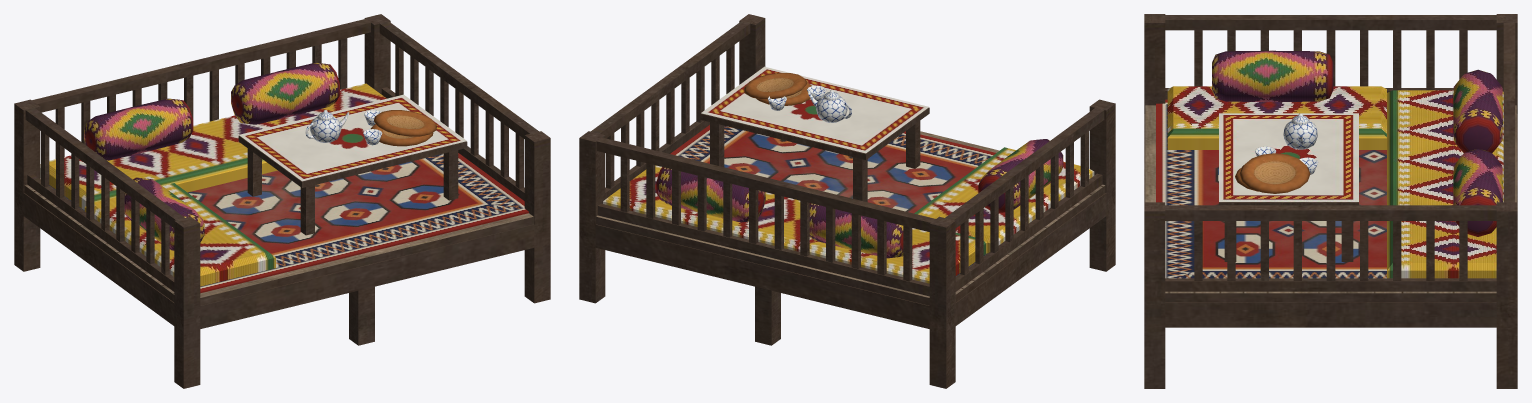
File: tapchan.glb
3 views of the same model, side by side, from view 1: azimuth 30°, elevation 25°; view 2: azimuth 150°, elevation 25°; view 3: azimuth 270°, elevation 25° (orthographic). The views are drawn at different scales.
Parts seen in each view (by area): view 1: tapchan; view 2: tapchan; view 3: tapchan.
Part boxes in pixels (left/top/right/bottom): tapchan: left=14, top=14, right=550, bottom=388; tapchan: left=579, top=14, right=1115, bottom=388; tapchan: left=1144, top=14, right=1517, bottom=388.
Size of the model in its own units: 2 by 0.912 by 1.6.
1 material, 1 textured.
